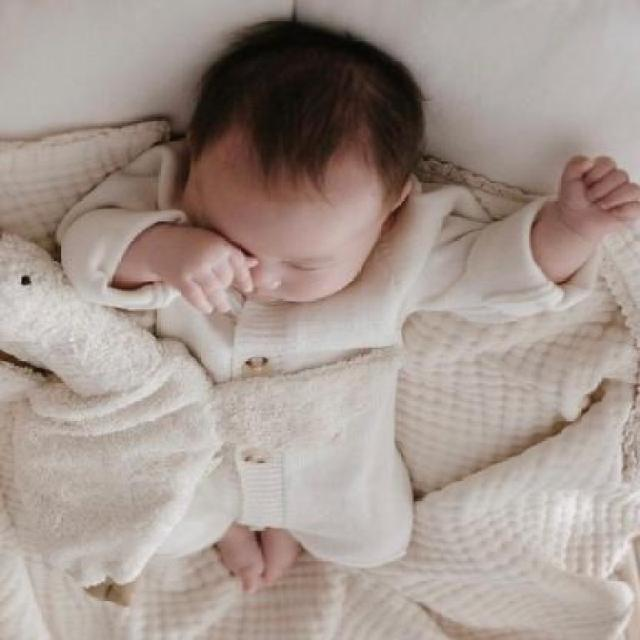baby: (52, 21, 638, 609)
